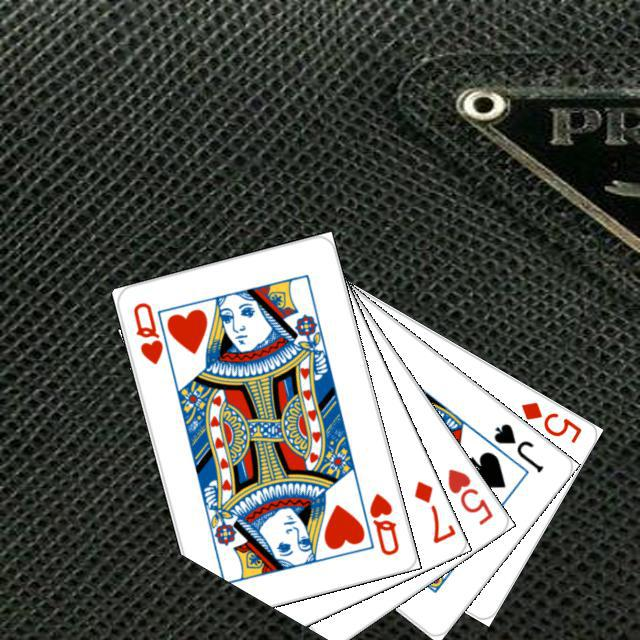5d: (516, 396, 583, 445)
5h: (442, 463, 495, 527)
7d: (409, 475, 456, 545)
Js: (488, 418, 545, 474)
Qh: (128, 297, 176, 370), (364, 488, 401, 557)
